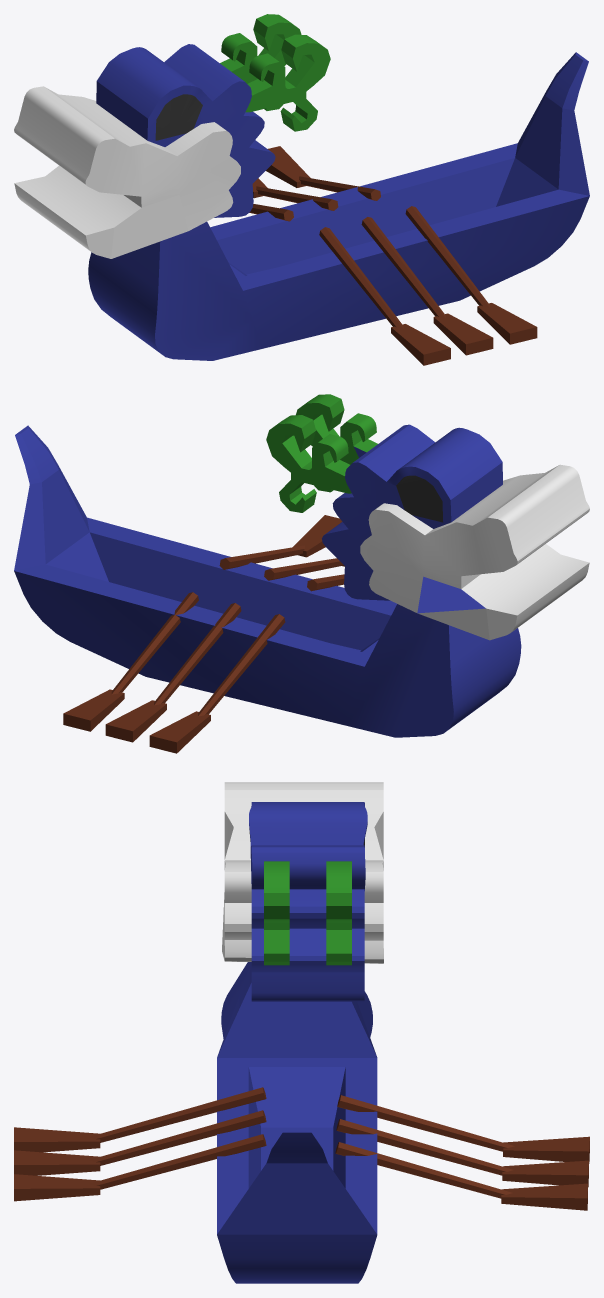
File: DrakkarCOLORED_BLUE.fbx
3 views of the same model, one above another, from view 1: azimuth 30°, elevation 25°; view 2: azimuth 150°, elevation 25°; view 3: azimuth 270°, elevation 25° (orthographic). The views are drawn at different scales.
Parts seen in each view (by area): view 1: Cube, Wioslo 1, Wioslo 2; view 2: Cube, Wioslo 2, Wioslo 1; view 3: Cube, Wioslo 1, Wioslo 2.
Part boxes in pixels (bbox=[...]): Cube: bbox=[14, 14, 589, 360]; Wioslo 1: bbox=[319, 206, 537, 365]; Wioslo 2: bbox=[249, 146, 380, 221]; Cube: bbox=[14, 394, 589, 737]; Wioslo 2: bbox=[63, 592, 285, 753]; Wioslo 1: bbox=[219, 515, 344, 591]; Cube: bbox=[217, 782, 383, 1283]; Wioslo 1: bbox=[14, 1087, 266, 1201]; Wioslo 2: bbox=[335, 1095, 589, 1210].
Size of the model in its own units: 90.8 by 47.32 by 76.89.
